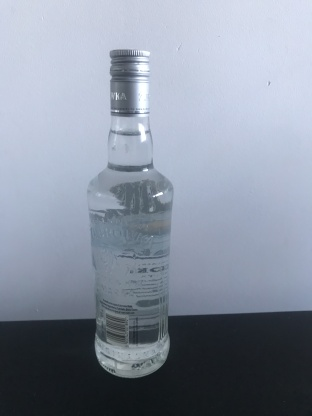nakretka: (108, 46, 152, 119)
